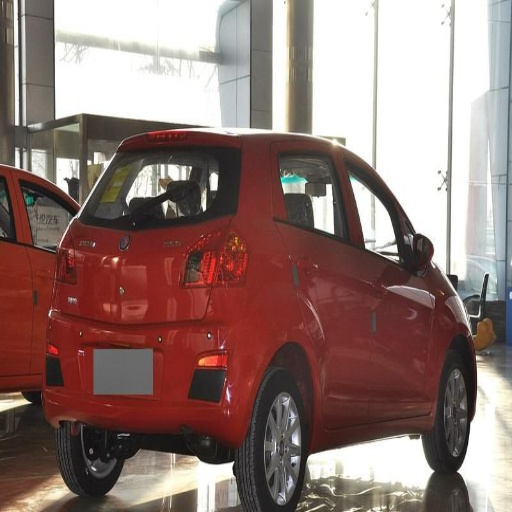back_bumper: (41, 311, 121, 426)
back_right_door: (275, 145, 371, 411)
trunk: (33, 215, 274, 437)
